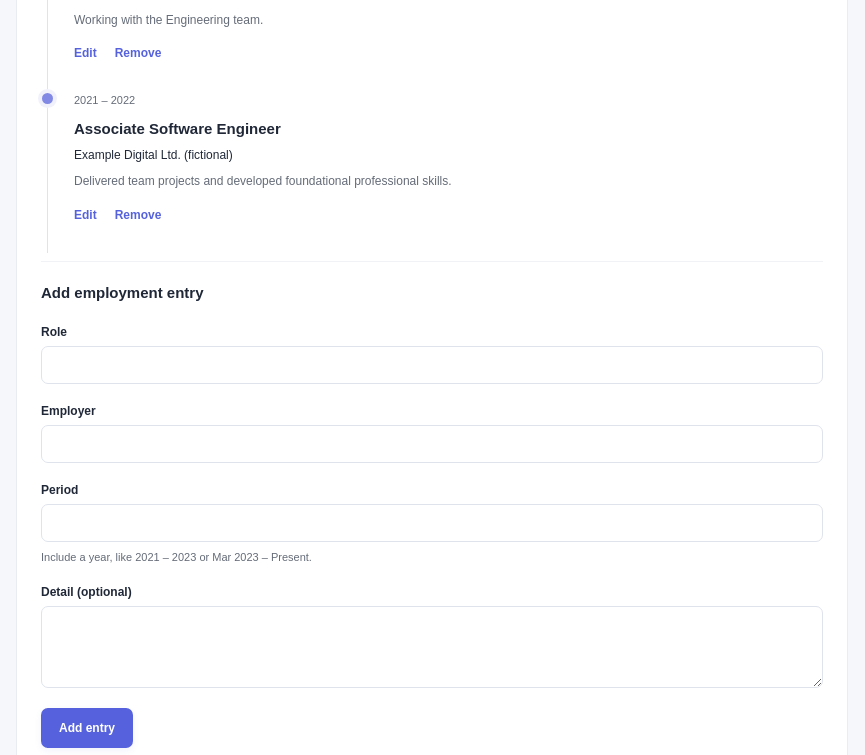
Test: StaffAttendance employment history (Story 7.3) › sends the session's own Employee ID with an add (the server ignores anyone else's)
(page scrolled)
Type "Intern" into the field labelled "Role". click: (432, 365)
box: [41,346,823,384]
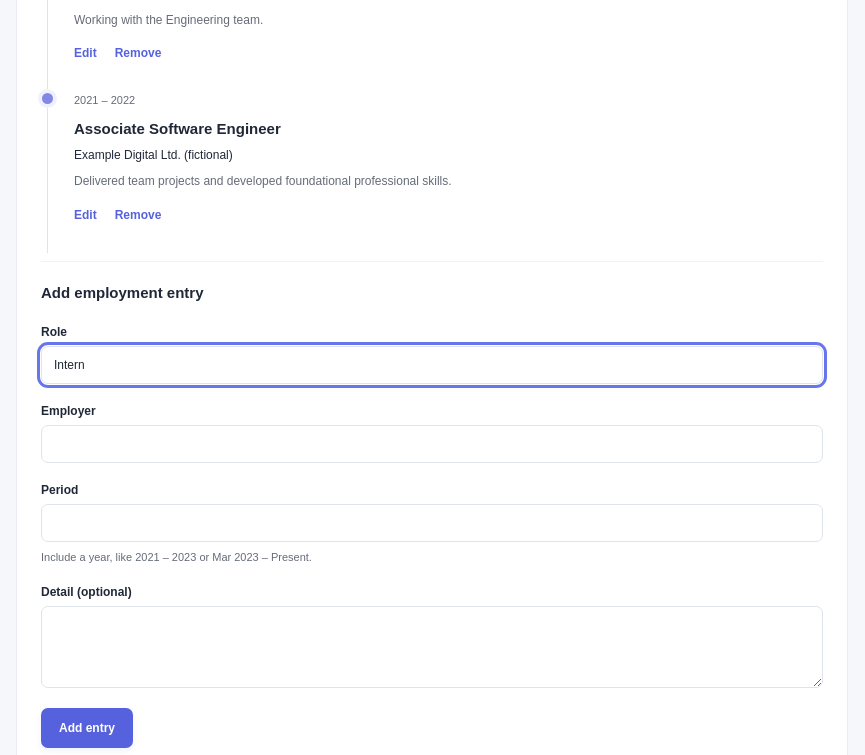
Type "Orbit" into the field labelled "Employer". click: (432, 444)
box: [41,425,823,463]
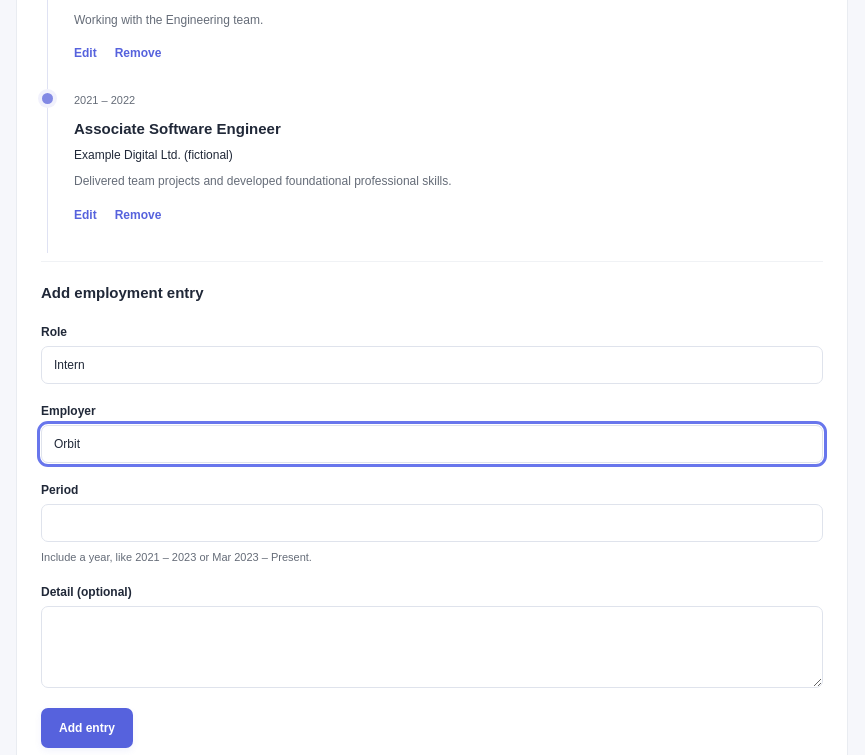
Type "2019" into the field labelled "Period". click: (432, 523)
box: [41,504,823,542]
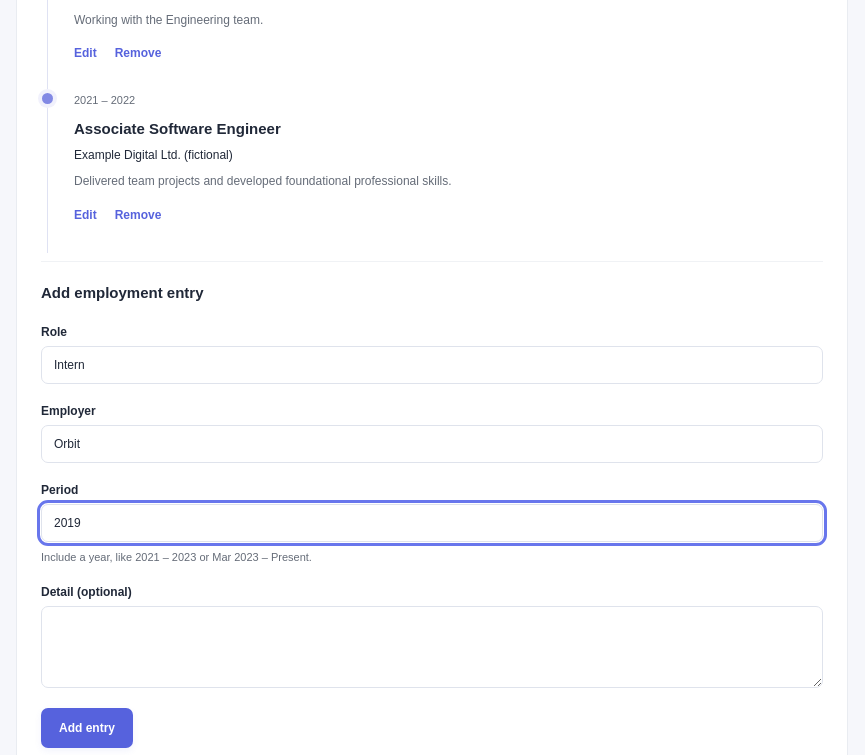
Click the button "Add entry". click: (87, 728)
box: [41,708,133,748]
(page scrolled)
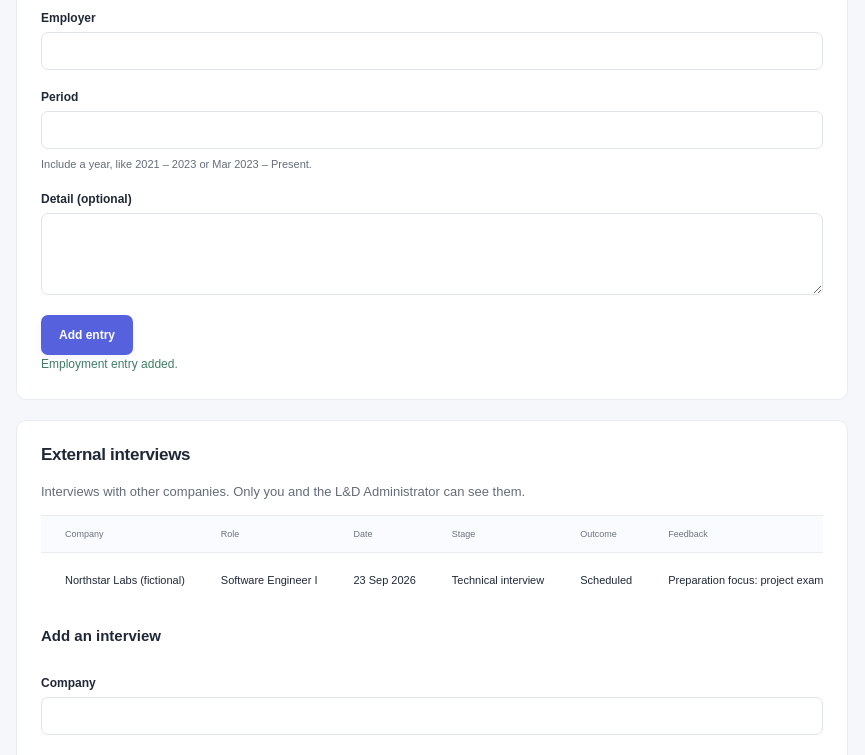
Expected: the text "Employment entry added." is shown, [41,357,178,371]
